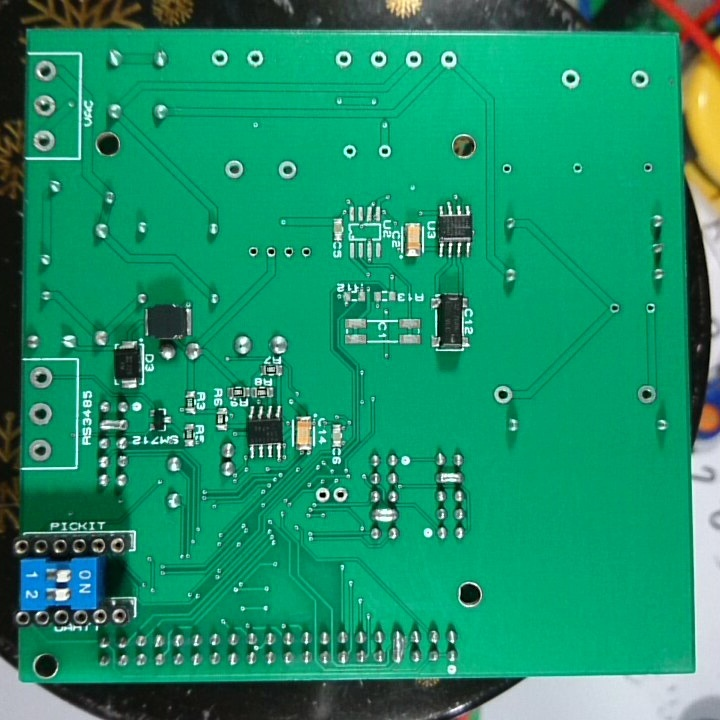F: (27, 399, 55, 428), (27, 366, 56, 393), (30, 92, 59, 119), (222, 157, 252, 183), (33, 57, 60, 85), (31, 129, 60, 155), (491, 380, 517, 409), (26, 436, 55, 460), (436, 46, 460, 74), (559, 65, 581, 92), (208, 46, 233, 69), (276, 158, 299, 183), (627, 67, 650, 91), (333, 47, 355, 72), (368, 48, 390, 72), (313, 483, 333, 509), (402, 48, 425, 70), (635, 378, 661, 396), (333, 483, 350, 509), (244, 49, 266, 69), (339, 142, 360, 161), (245, 243, 260, 263), (570, 159, 587, 175), (639, 159, 655, 176), (281, 243, 297, 260), (501, 160, 515, 179), (378, 142, 392, 161), (643, 300, 656, 320), (609, 299, 621, 320), (299, 243, 312, 261), (263, 245, 276, 258)
P: (390, 625, 406, 666), (367, 505, 402, 523), (435, 469, 467, 488), (99, 416, 130, 435)
